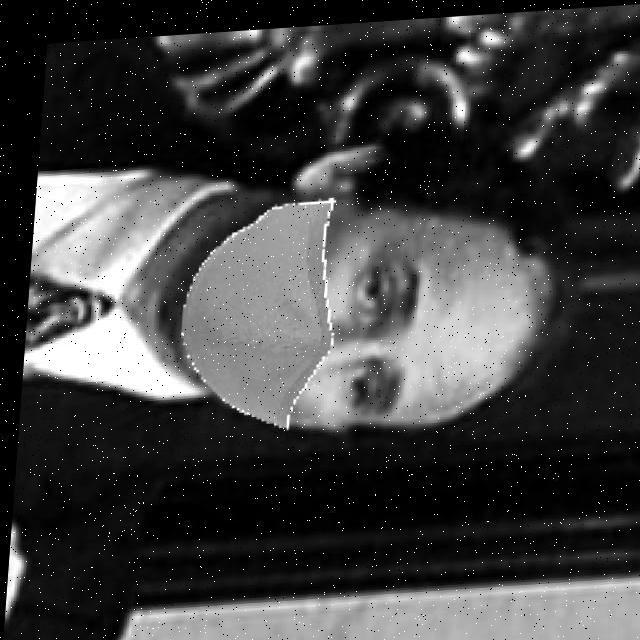mask: (173, 182, 327, 416)
no_gloves: (449, 137, 567, 411)
